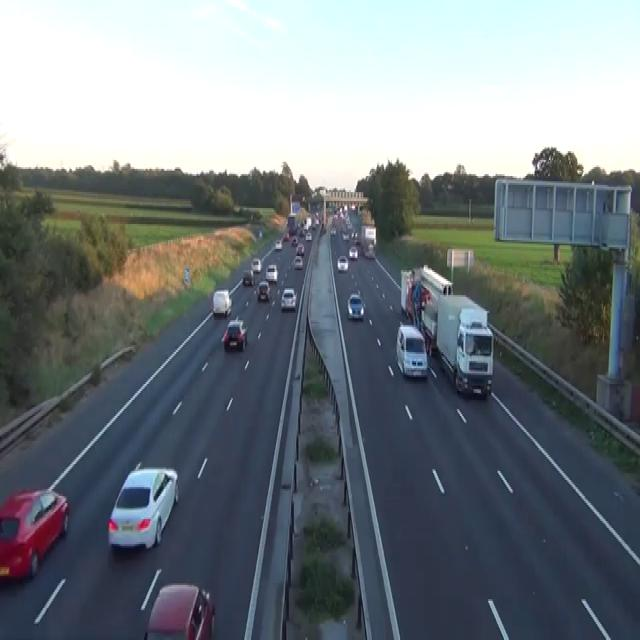Car: (0, 487, 69, 581), (107, 461, 179, 551), (143, 582, 215, 638), (395, 324, 427, 378), (221, 318, 248, 350), (212, 288, 231, 316), (347, 292, 365, 320), (280, 288, 296, 311), (257, 279, 271, 301), (420, 284, 431, 308), (265, 263, 277, 283), (242, 268, 254, 286), (337, 254, 348, 272), (348, 243, 358, 260), (251, 258, 262, 272), (364, 244, 375, 258), (293, 254, 303, 268), (296, 244, 304, 256), (275, 238, 282, 249), (282, 231, 289, 242), (291, 235, 298, 245), (311, 218, 318, 228), (320, 222, 326, 233), (305, 231, 312, 240), (342, 231, 349, 240), (354, 237, 361, 246), (350, 202, 356, 212), (347, 220, 352, 230), (330, 226, 336, 234), (351, 230, 357, 238), (298, 228, 304, 236), (258, 230, 262, 237)
Truck: (399, 263, 493, 398), (436, 294, 493, 398), (400, 263, 453, 356), (360, 224, 376, 258)
